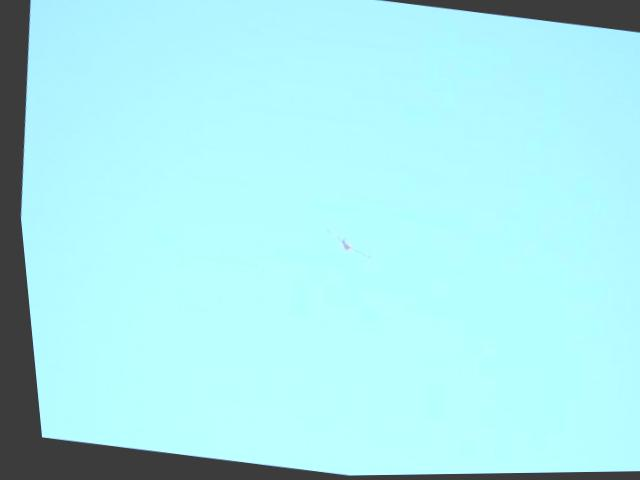iha: (319, 223, 372, 262)
